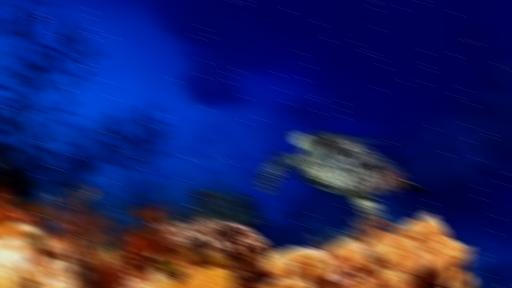Fish: (258, 131, 427, 221)
